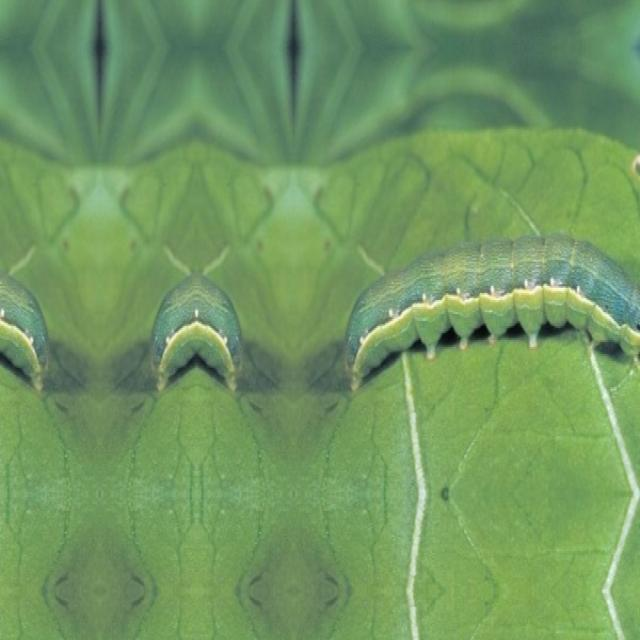armyworm: (342, 230, 639, 392), (148, 270, 244, 394), (0, 270, 50, 392)
